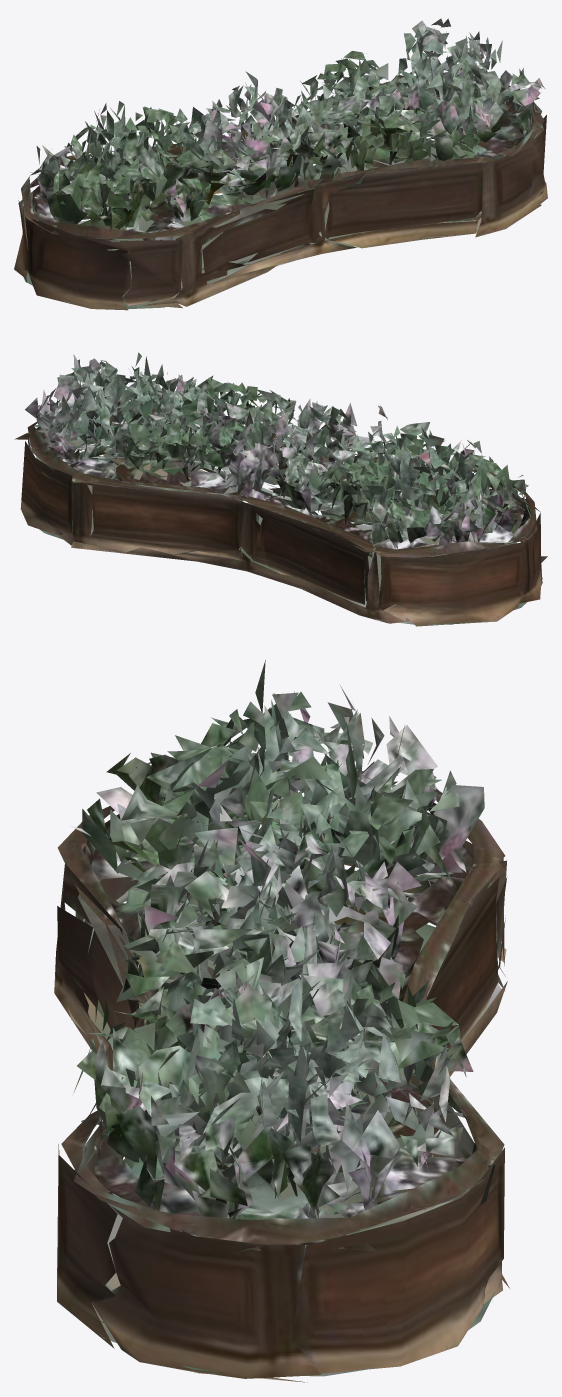
File: garden.glb
The picture shows the model from 3 angles, top to bottom: view 1: azimuth 30°, elevation 25°; view 2: azimuth 150°, elevation 25°; view 3: azimuth 270°, elevation 25°; orthographic projection. The views are drawn at different scales.
Parts seen in each view (by area): view 1: geometry_0; view 2: geometry_0; view 3: geometry_0.
Boxes of the visible parts, bbox=[...] form: geometry_0: bbox=[14, 18, 547, 310]; geometry_0: bbox=[14, 352, 547, 626]; geometry_0: bbox=[54, 660, 509, 1382].
Size of the model in its own units: 2.41 by 0.7116 by 0.9651.
Materials: 1 (1 with a texture image).
